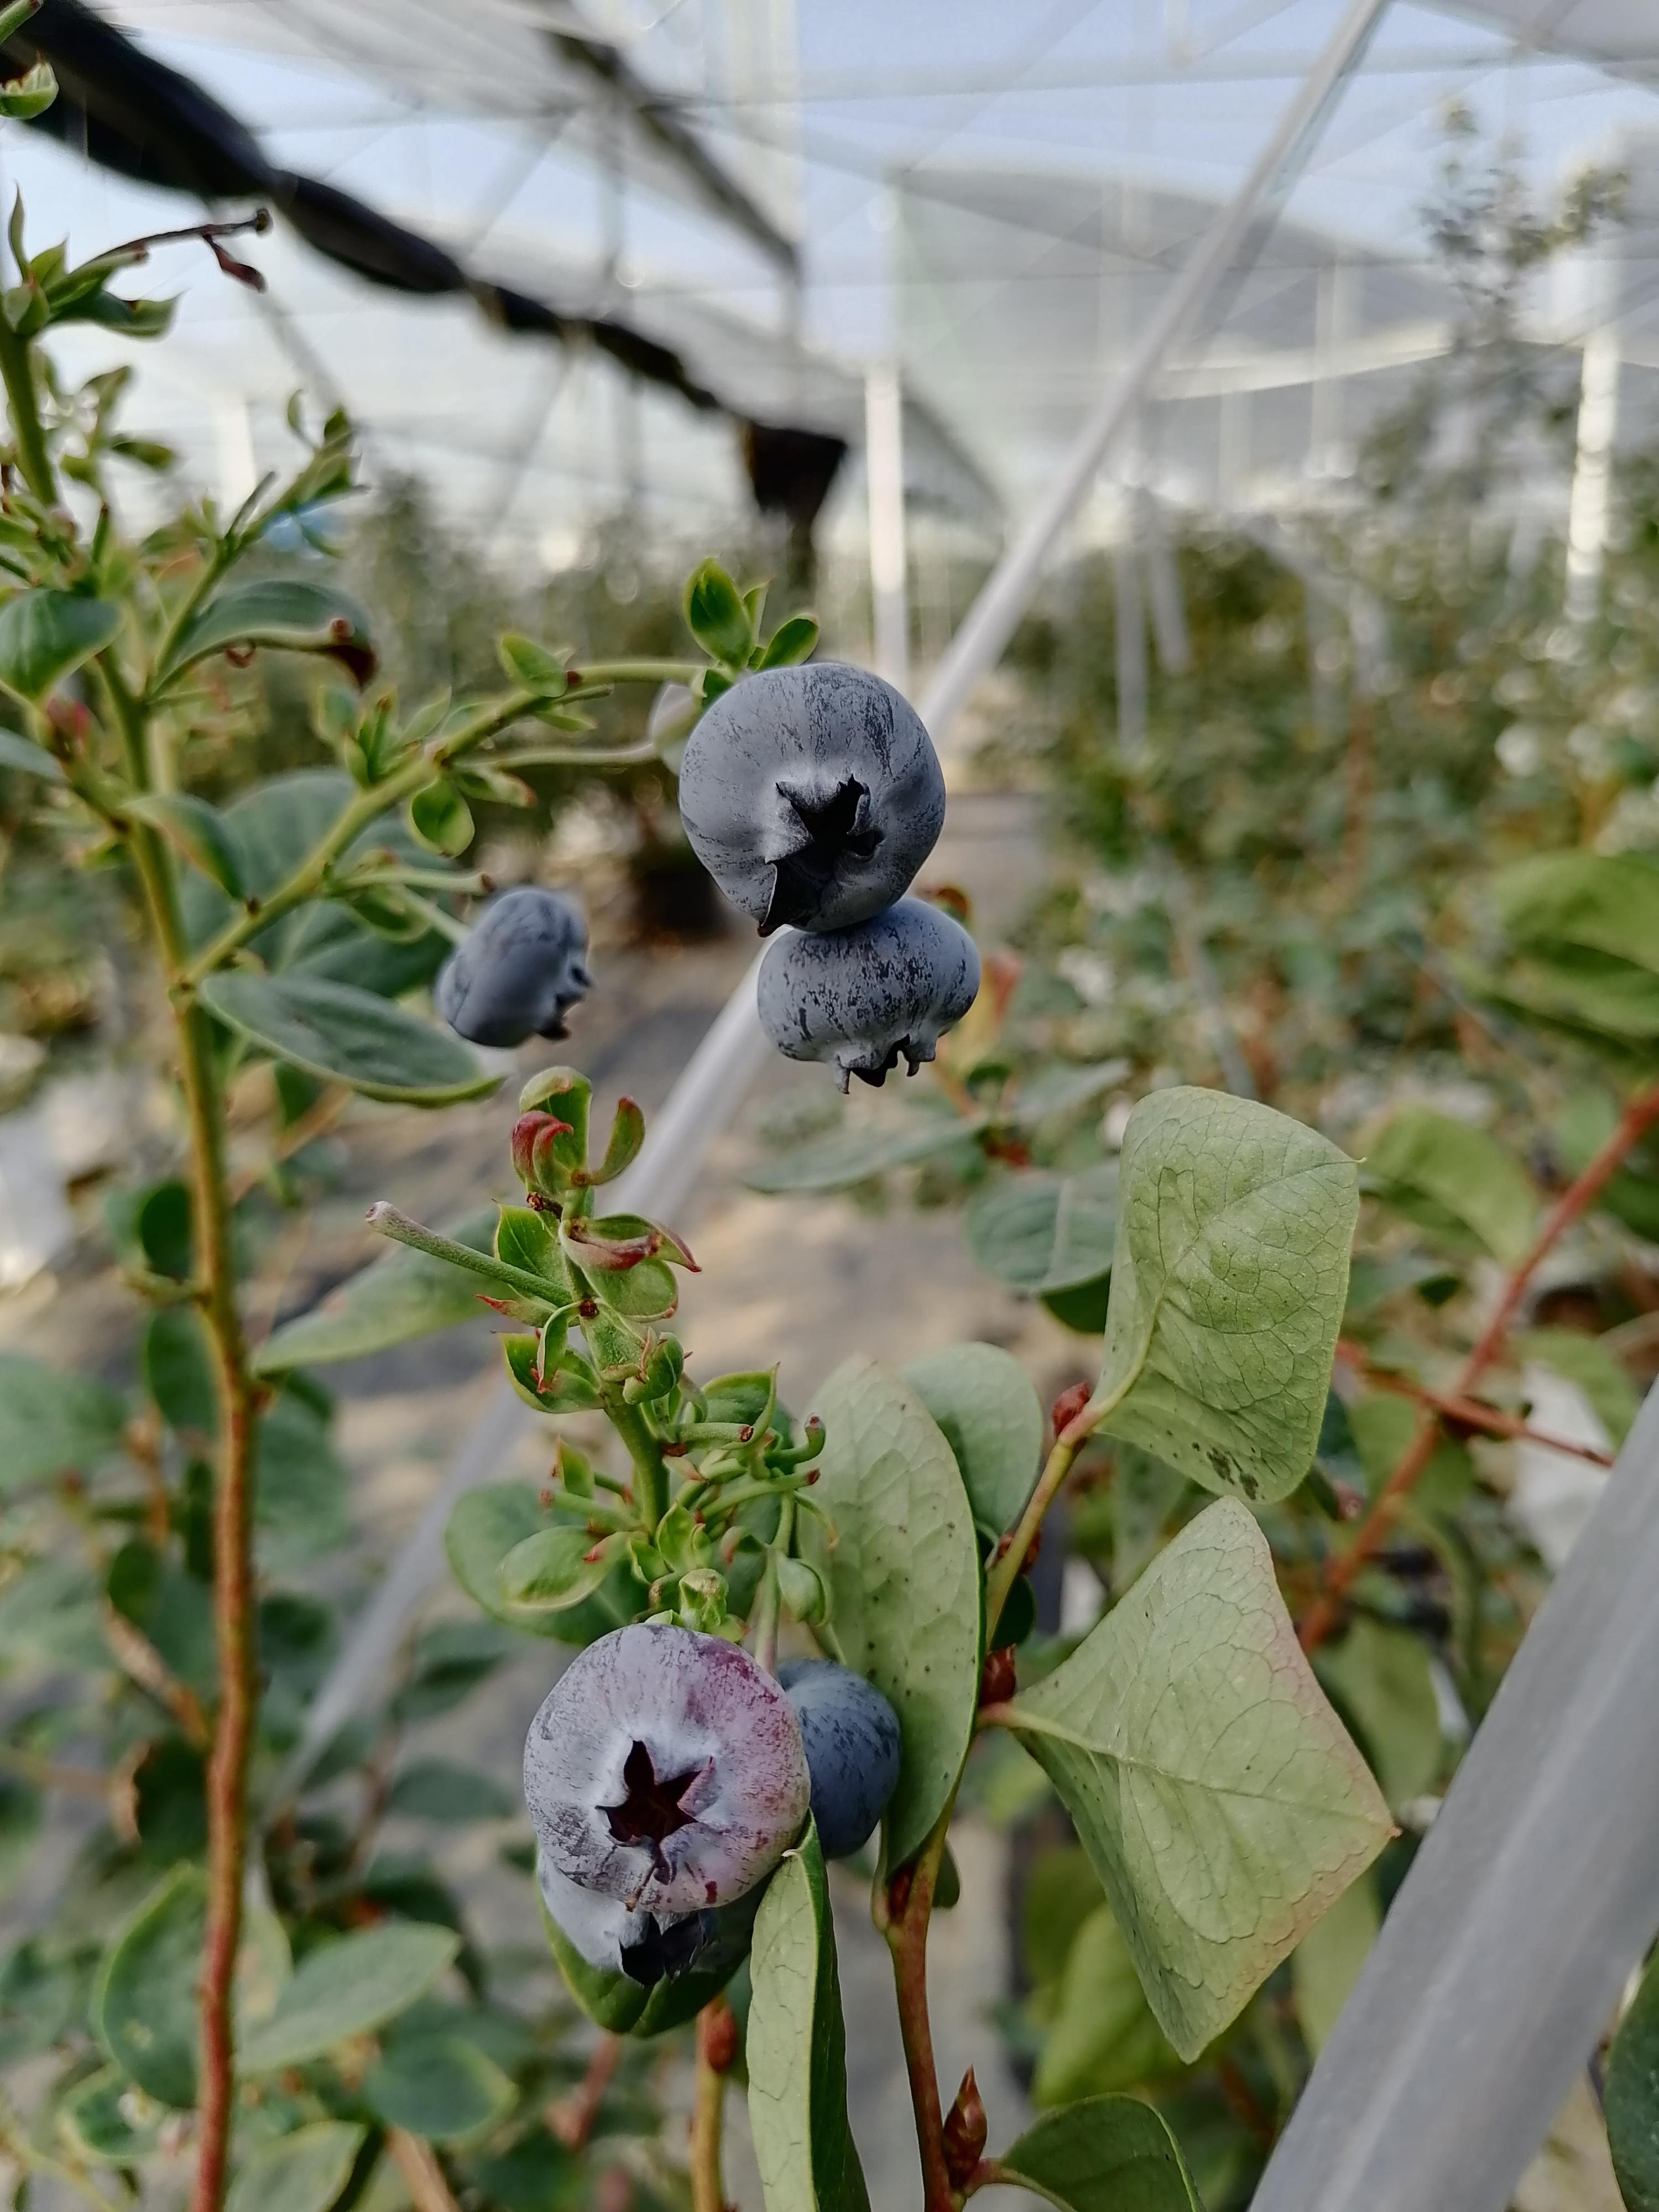ripe-blueberries: (678, 660, 946, 935), (755, 895, 981, 1092), (782, 1649, 910, 1865), (537, 1846, 725, 1991), (436, 887, 594, 1050)
